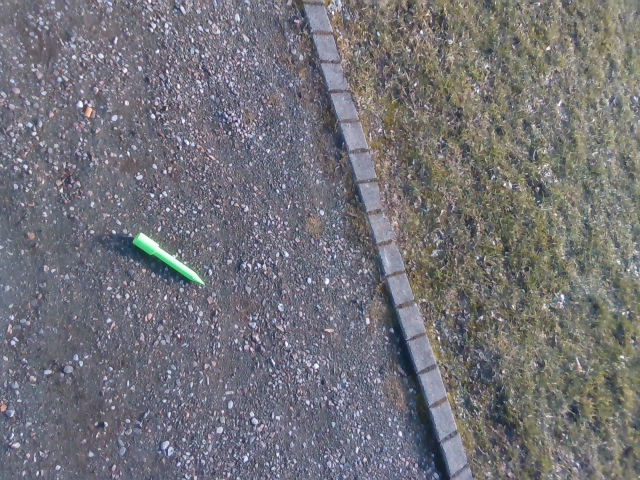Probe: (131, 226, 208, 289)
